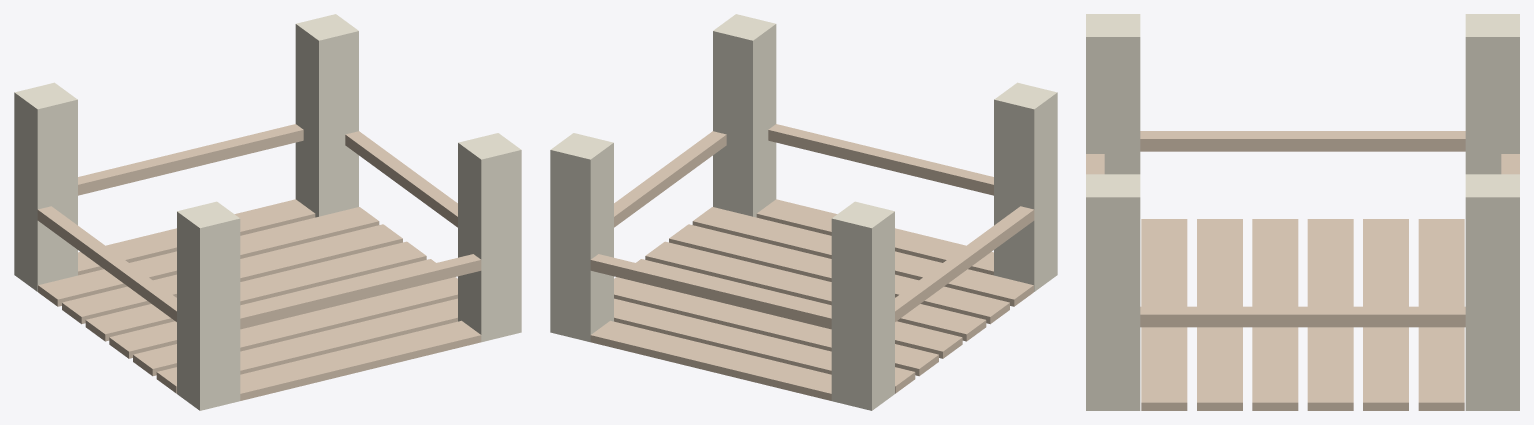
Rendered from towerSquareMidOpenHalf.glb.
The picture shows the model from 3 angles, left to right: view 1: azimuth 30°, elevation 25°; view 2: azimuth 150°, elevation 25°; view 3: azimuth 270°, elevation 25°; orthographic projection. The views are drawn at different scales.
Visible parts, largest first — view 1: towerSquareMidOpenHalf; view 2: towerSquareMidOpenHalf; view 3: towerSquareMidOpenHalf.
Boxes of the visible parts, x1=… form: towerSquareMidOpenHalf: x1=14, y1=14, x2=521, y2=410; towerSquareMidOpenHalf: x1=550, y1=14, x2=1057, y2=410; towerSquareMidOpenHalf: x1=1086, y1=14, x2=1519, y2=410.
Bounding box in the file's own units: 9.3 × 5.05 × 9.3.
